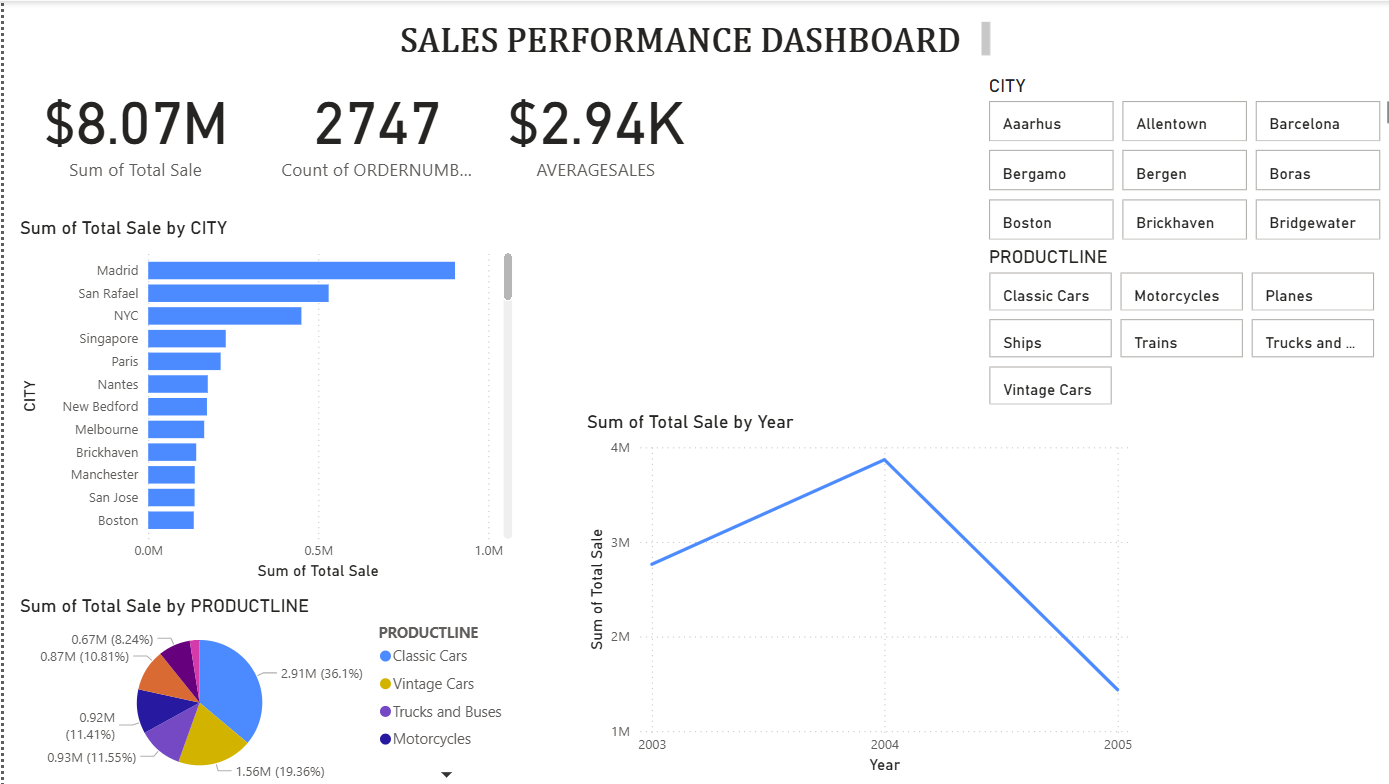

Layout of this report page (visuals, bound fields, positions):
{"tool":"powerbi","page":{"name":"Sales ","canvas":[1280,720],"ordinal":0},"visuals":[{"type":"card","fields":{"Values":["Sum(cleaned_sales_data.Total Sale)"]},"box":[0,57.9,240,114.2],"z":0},{"type":"card","fields":{"Values":["CountNonNull(cleaned_sales_data.ORDERNUMBER)"]},"box":[245,57.9,190.3,114.2],"z":1},{"type":"card","fields":{"Values":["cleaned_sales_data.AVERAGESALES"]},"box":[441.9,57.9,198.6,114.2],"z":2},{"type":"barChart","fields":{"Category":["cleaned_sales_data.CITY"],"Y":["Sum(cleaned_sales_data.Total Sale)"]},"box":[9.9,197,460.1,336],"z":3},{"type":"pieChart","fields":{"Category":["cleaned_sales_data.PRODUCTLINE"],"Y":["Sum(cleaned_sales_data.Total Sale)"]},"box":[10,543,460,177],"z":4},{"type":"lineChart","fields":{"Category":["cleaned_sales_data.ORDERDATE.Variation.Date Hierarchy.Year","cleaned_sales_data.ORDERDATE.Variation.Date Hierarchy.Quarter","cleaned_sales_data.ORDERDATE.Variation.Date Hierarchy.Month","cleaned_sales_data.ORDERDATE.Variation.Date Hierarchy.Day"],"Y":["Sum(cleaned_sales_data.Total Sale)"]},"box":[528,374.1,508.1,336],"z":5},{"type":"advancedSlicerVisual","fields":{"Values":["cleaned_sales_data.CITY"]},"box":[896.1,67.2,382.9,157.8],"z":6},{"type":"advancedSlicerVisual","fields":{"Values":["cleaned_sales_data.PRODUCTLINE"]},"box":[896.1,223.7,362.3,151],"z":7},{"type":"textbox","box":[339,13.7,568.1,43.9],"z":8}]}

Visuals, with their boxes in screenshot pixels (x1, y1, x2, y2), scaled from the page's 1280x720 canvas onto the 1389x784 screenshot:
card - Sum(cleaned_sales_data.Total Sale): bbox(0, 63, 260, 187)
card - CountNonNull(cleaned_sales_data.ORDERNUMBER): bbox(266, 63, 472, 187)
card - cleaned_sales_data.AVERAGESALES: bbox(480, 63, 695, 187)
barChart - cleaned_sales_data.CITY x Sum(cleaned_sales_data.Total Sale): bbox(11, 215, 510, 580)
pieChart - cleaned_sales_data.PRODUCTLINE x Sum(cleaned_sales_data.Total Sale): bbox(11, 591, 510, 783)
lineChart - cleaned_sales_data.ORDERDATE.Variation.Date Hierarchy.Year x cleaned_sales_data.ORDERDATE.Variation.Date Hierarchy.Quarter: bbox(573, 407, 1124, 773)
advancedSlicerVisual - cleaned_sales_data.CITY: bbox(972, 73, 1388, 245)
advancedSlicerVisual - cleaned_sales_data.PRODUCTLINE: bbox(972, 244, 1366, 408)
textbox: bbox(368, 15, 984, 63)
